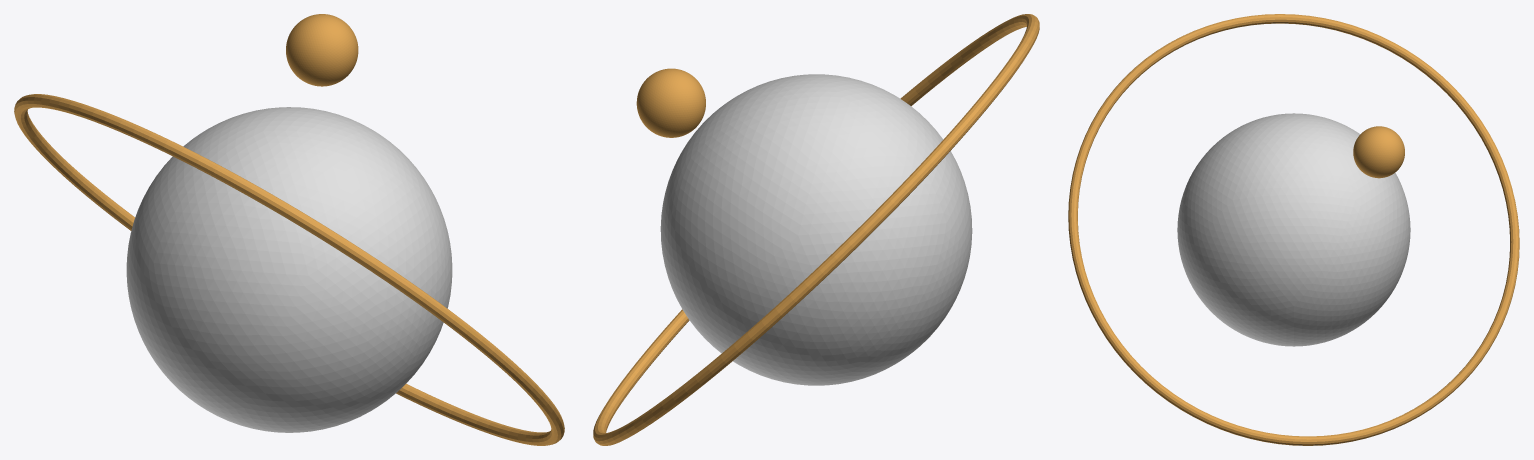
Rendered from Planet.glb.
3 views of the same model, side by side, from view 1: azimuth 30°, elevation 25°; view 2: azimuth 150°, elevation 25°; view 3: azimuth 270°, elevation 25° (orthographic). The views are drawn at different scales.
Visible parts, largest first — view 1: Sphere, Ring, Sphere2; view 2: Sphere, Ring, Sphere2; view 3: Sphere, Ring, Sphere2.
Part boxes in pixels (bbox=[...]): Sphere: bbox=[126, 107, 452, 432]; Ring: bbox=[14, 94, 564, 445]; Sphere2: bbox=[286, 14, 358, 86]; Sphere: bbox=[660, 74, 972, 385]; Ring: bbox=[593, 14, 1039, 445]; Sphere2: bbox=[636, 68, 705, 137]; Sphere: bbox=[1177, 113, 1410, 346]; Ring: bbox=[1068, 14, 1519, 445]; Sphere2: bbox=[1353, 126, 1404, 178].
Bounding box in the file's own units: 2.82 × 2.82 × 3.84.
Materials: 2 (1 with a texture image).
